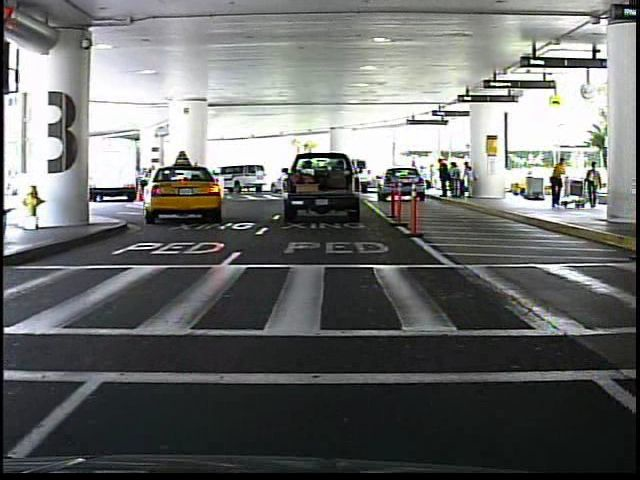person: (547, 154, 571, 211), (585, 159, 604, 212), (408, 159, 423, 192)
